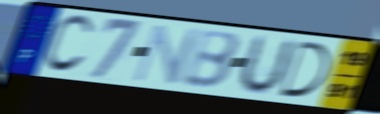7: (91, 16, 145, 82)
B: (180, 30, 242, 91)
C: (39, 13, 96, 76)
D: (277, 39, 333, 100)
N: (130, 23, 204, 85)
U: (234, 33, 298, 96)
